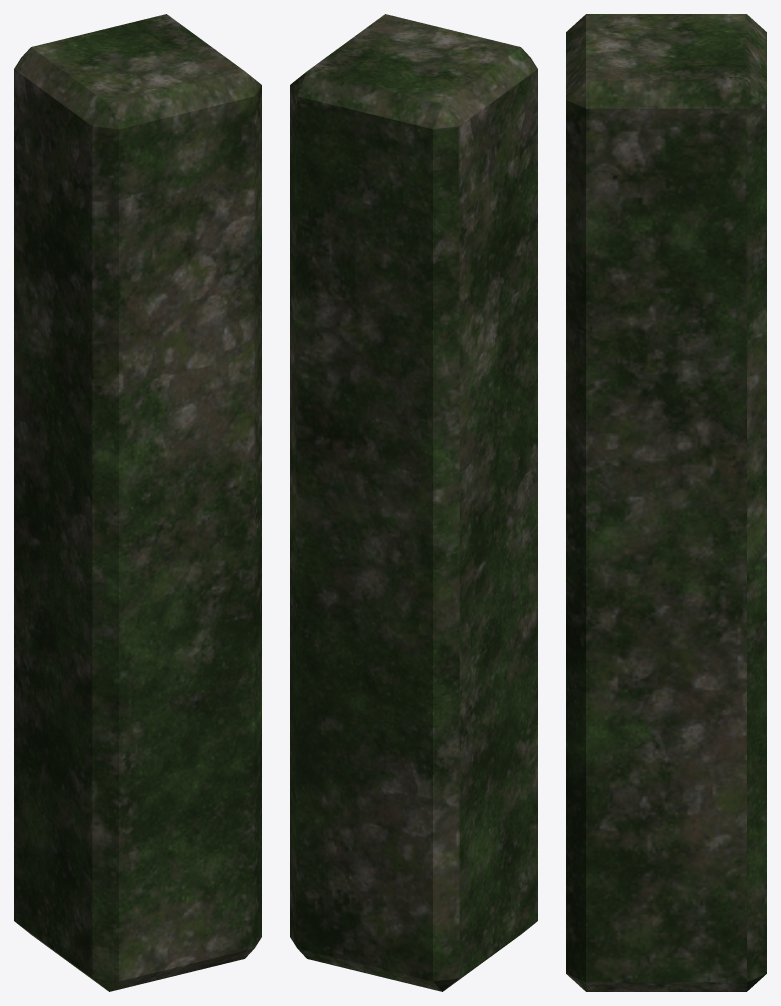
The model's file is MK_CampWall_Pillar.fbx.
3 renders of one model, left to right at view 1: azimuth 30°, elevation 25°; view 2: azimuth 150°, elevation 25°; view 3: azimuth 270°, elevation 25°, orthographic. The views are drawn at different scales.
Visible parts, largest first — view 1: MK_CampWall_Pillar; view 2: MK_CampWall_Pillar; view 3: MK_CampWall_Pillar.
Boxes of the visible parts, x1,y1,x2,y2 form: MK_CampWall_Pillar: [14, 14, 261, 991]; MK_CampWall_Pillar: [290, 14, 537, 991]; MK_CampWall_Pillar: [566, 14, 766, 991].
Size of the model in its own units: 25 by 125 by 25.
Materials: 1 (1 with a texture image).
